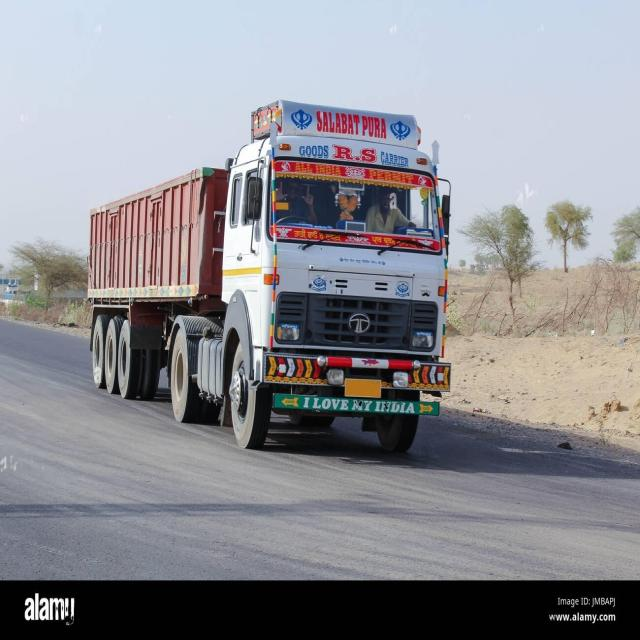truck: (88, 100, 451, 451)
